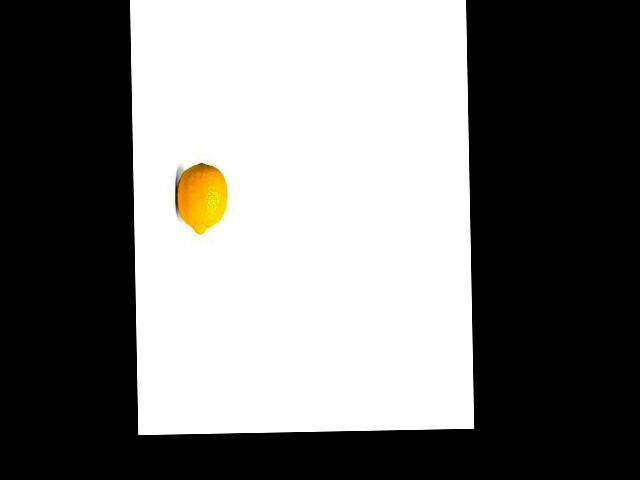lemon: (175, 159, 229, 238)
